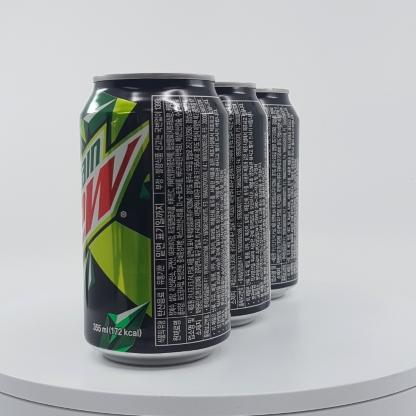------355ML: (79, 72, 231, 366)
